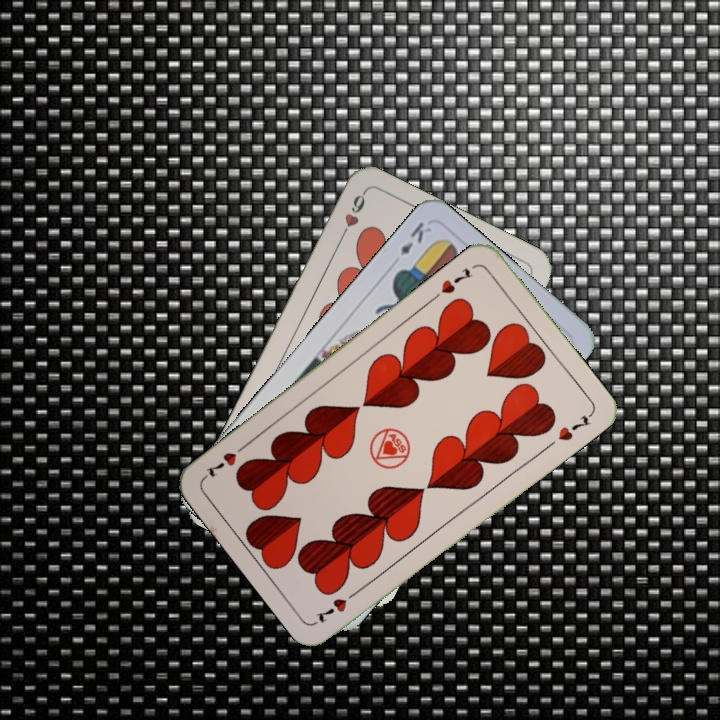EK: (396, 217, 434, 258)
H7: (311, 585, 362, 626), (436, 263, 476, 297)
H9: (335, 188, 368, 244)
